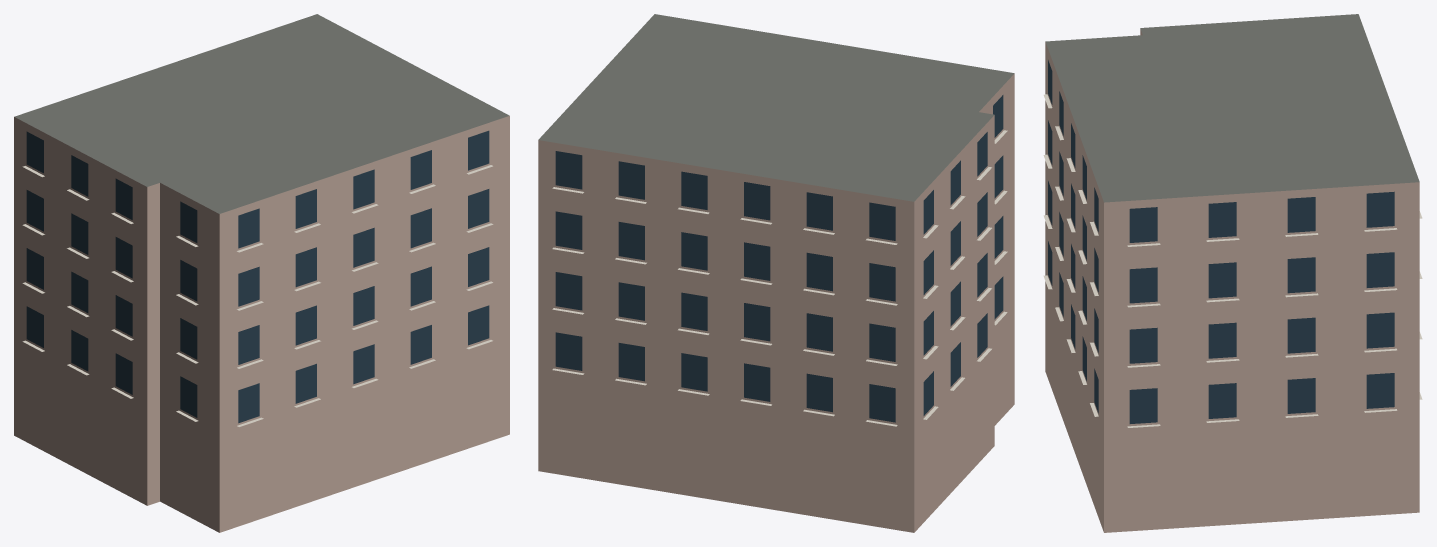
The picture shows the model from 3 angles, left to right: view 1: azimuth 30°, elevation 25°; view 2: azimuth 150°, elevation 25°; view 3: azimuth 270°, elevation 25°; orthographic projection. The views are drawn at different scales.
Visible parts, largest first — view 1: Footprint 0, Inferred window bays, Window sills; view 2: Footprint 0, Inferred window bays, Window sills; view 3: Footprint 0, Inferred window bays, Window sills.
Part boxes in pixels (x1=…): Footprint 0: x1=14, y1=14, x2=509, y2=532; Inferred window bays: x1=26, y1=130, x2=489, y2=423; Window sills: x1=22, y1=165, x2=493, y2=426; Footprint 0: x1=538, y1=14, x2=1014, y2=532; Inferred window bays: x1=555, y1=95, x2=1003, y2=422; Window sills: x1=552, y1=130, x2=1007, y2=426; Footprint 0: x1=1045, y1=14, x2=1419, y2=532; Inferred window bays: x1=1048, y1=60, x2=1394, y2=423; Window sills: x1=1043, y1=94, x2=1422, y2=427.
Size of the model in its own units: 19.66 by 15.92 by 16.55.
